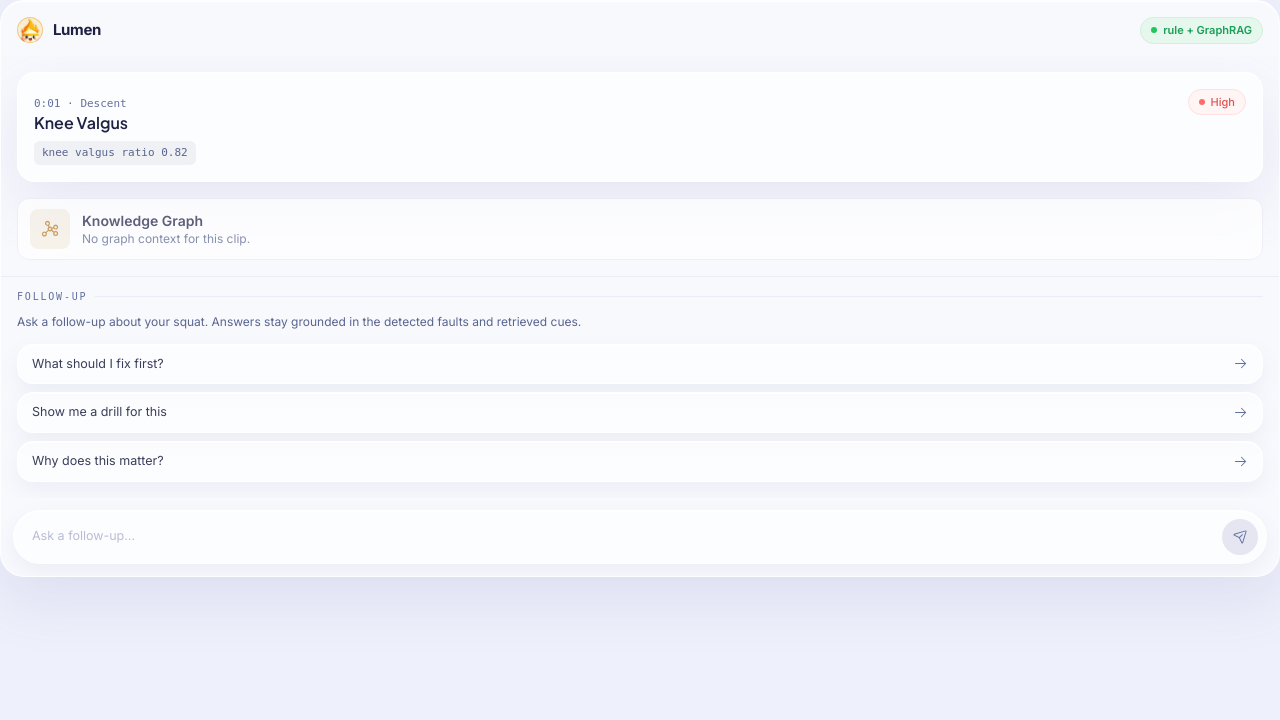
Test: CoachTray — prefers-reduced-motion › skips the entrance animation for fault cards and chat turns
Expected: the text "Knee Valgus" is shown, [34, 112, 128, 132]
Type "hi" into the field with placeholder "Ask a follow-up…". click: (618, 537)
box: [22, 527, 1214, 546]
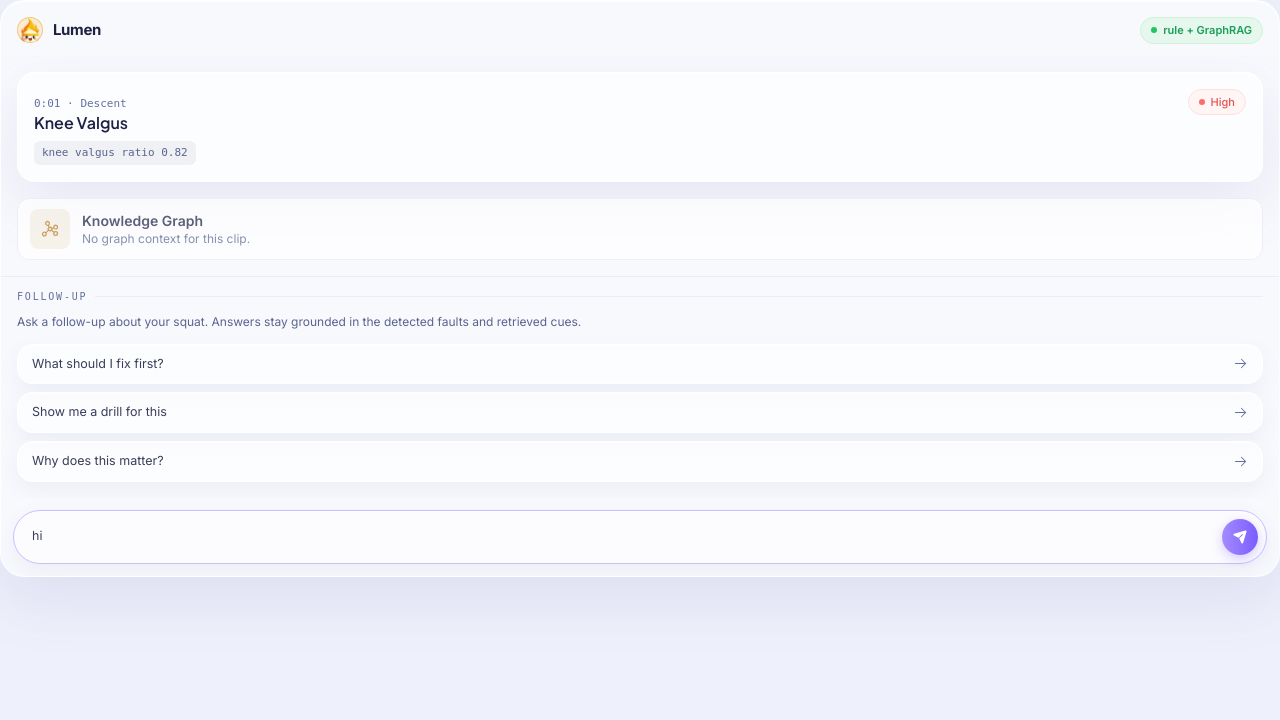
Click the button named "Send message". click: (1240, 537)
box: [1222, 519, 1258, 555]
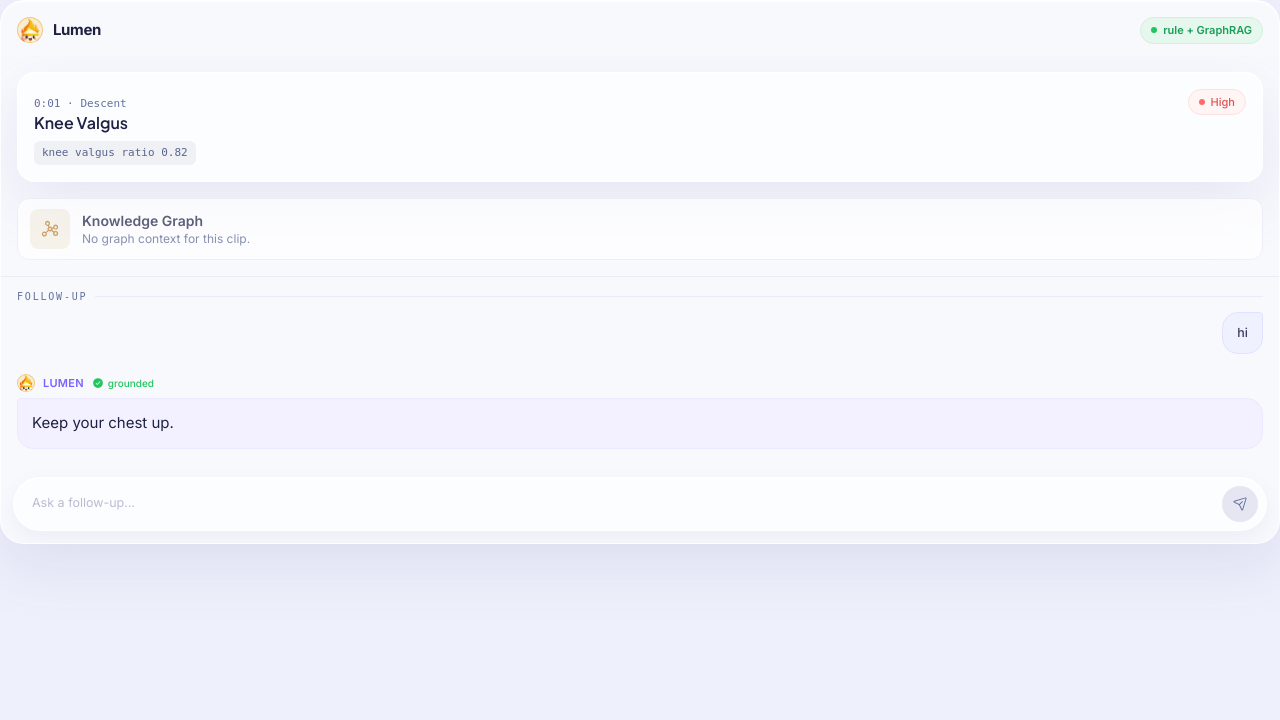
Expected: the text "Keep your chest up." is shown, [32, 413, 174, 432]
